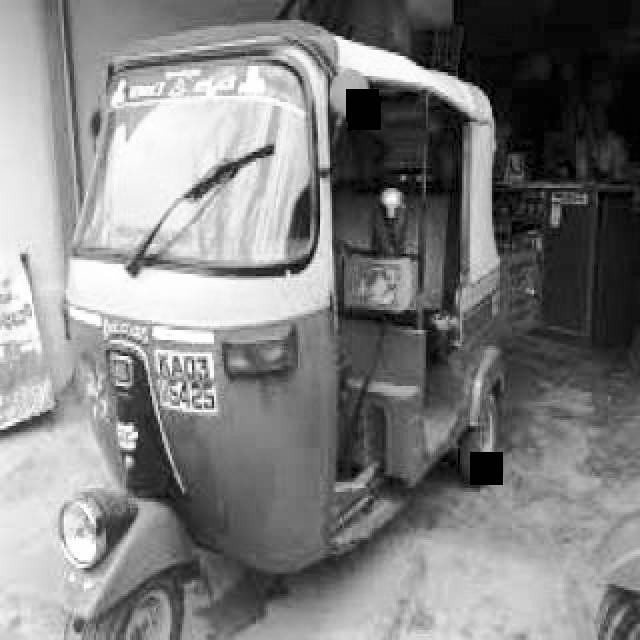Auto-Rickshaw: (26, 26, 578, 640)
